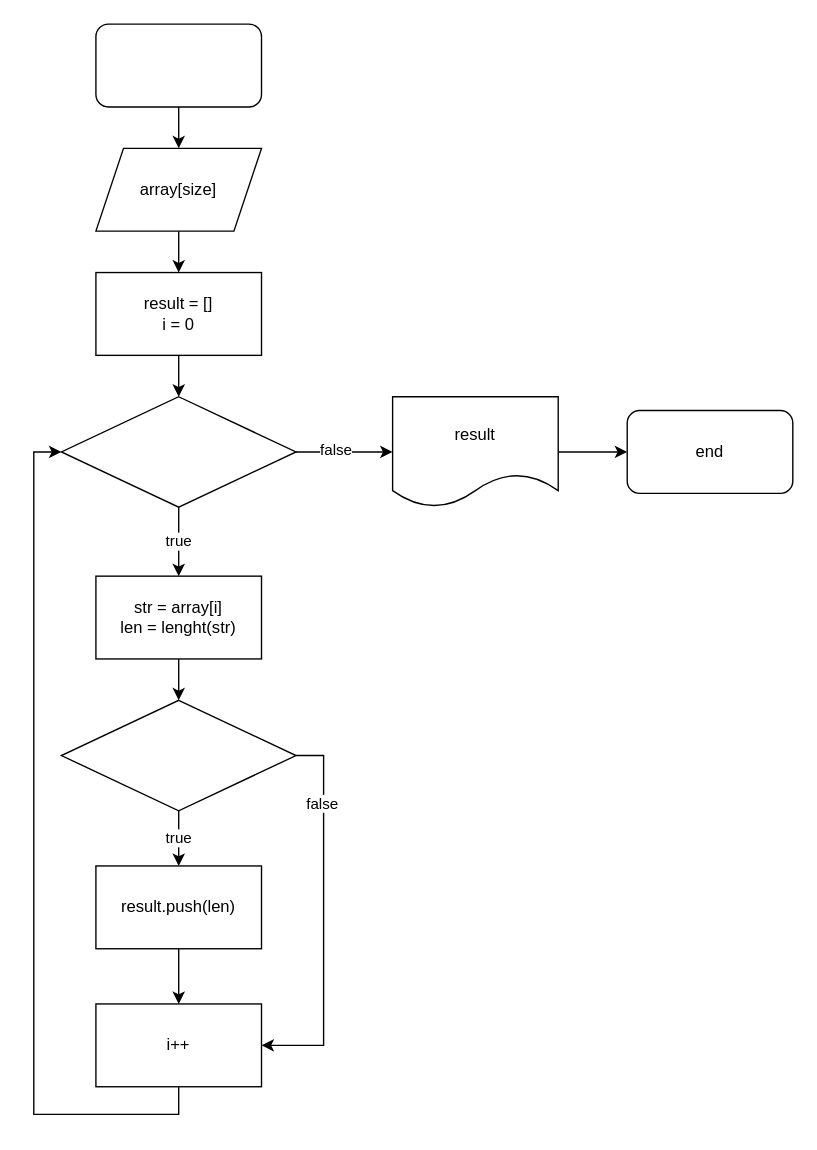
Image size: 817x1150. Some labels were removed from this diagram. The shapes that lost their labels are listed below. From the top down, each one's centre as x and y in pixels, then its label:
At (178,65): "start".
At (178,451): "i < size".
At (178,755): "len >= 3".
